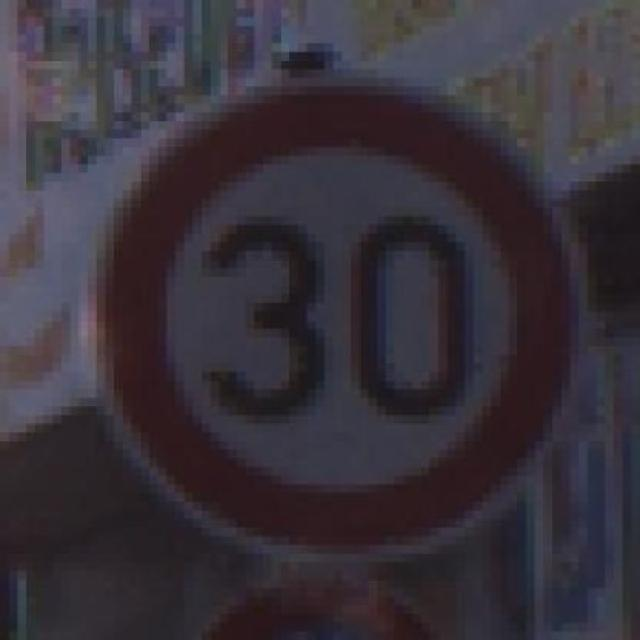Speed Limit 30 KMPh: (61, 51, 605, 572)
